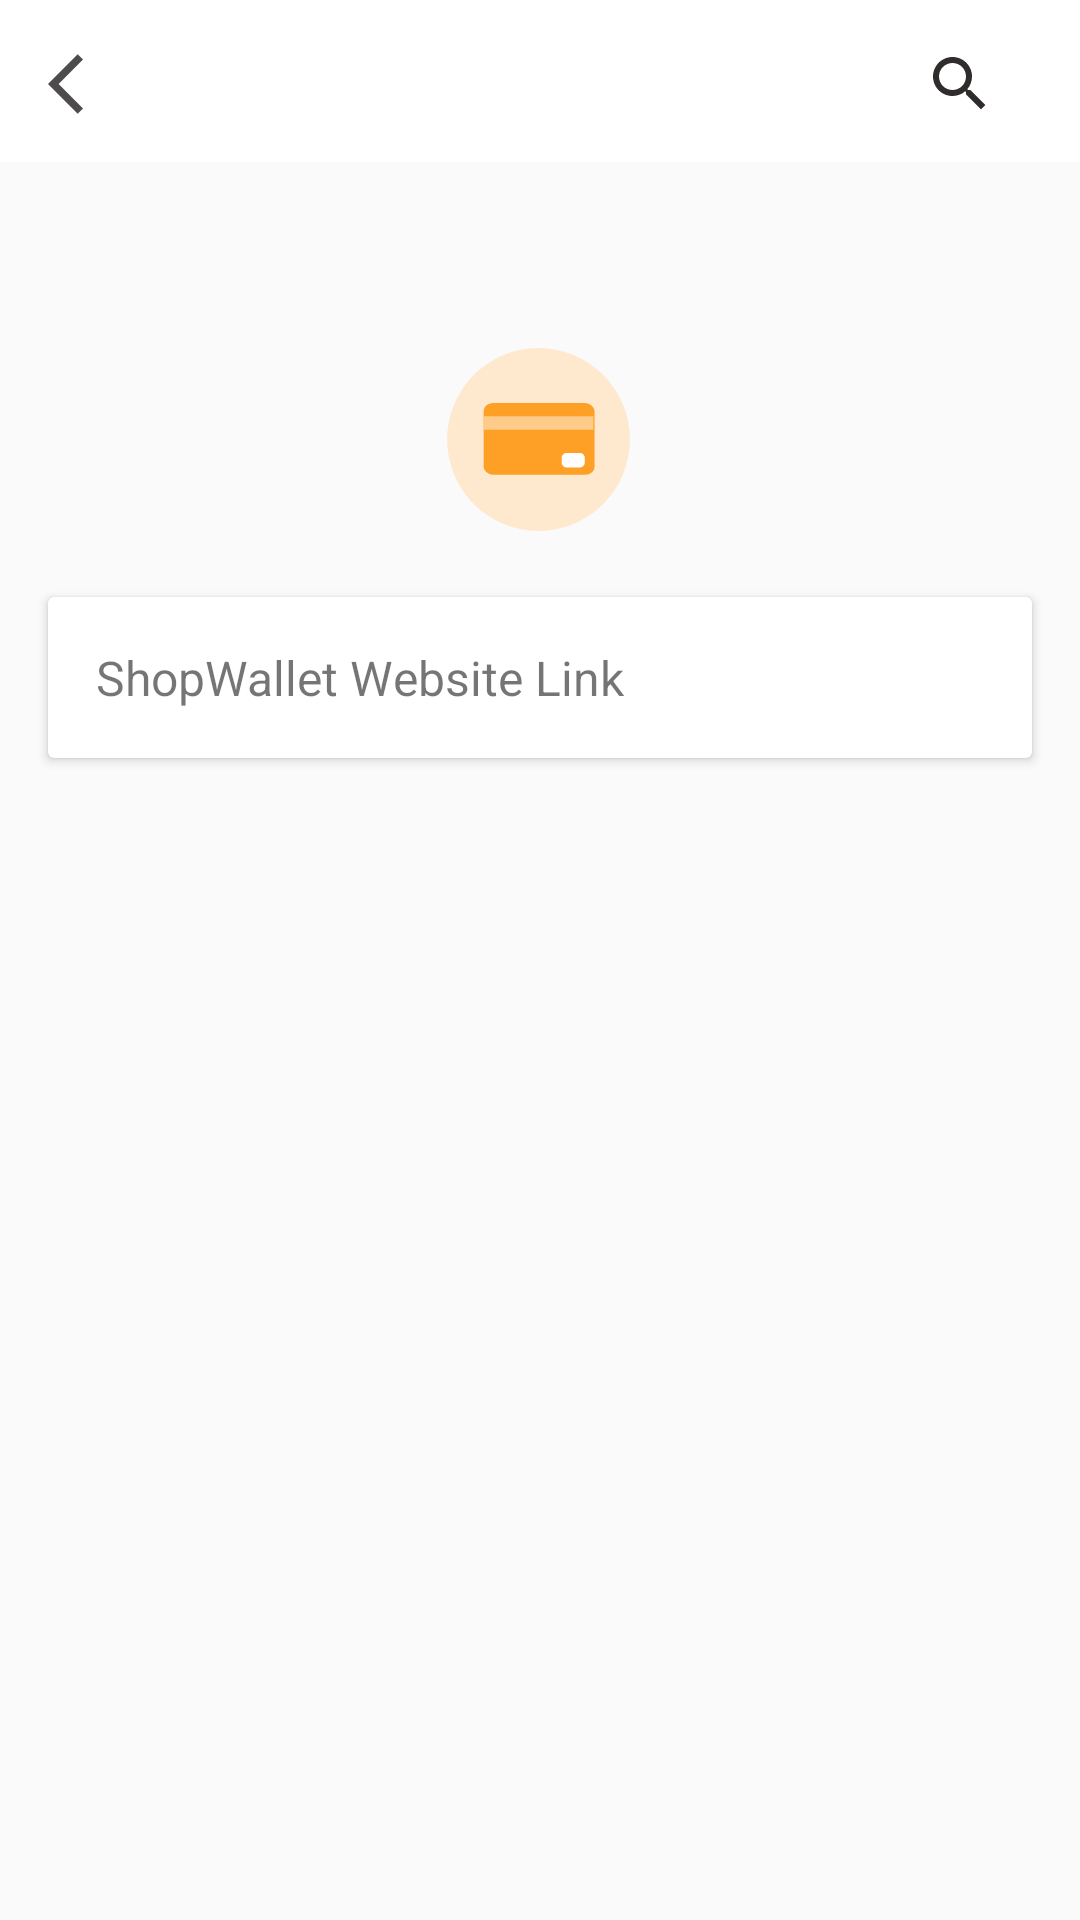

Where to tap for icons on this 1080 x 1920 app screen, as [x,y]:
Search Icon for Website Link: [959,83]
